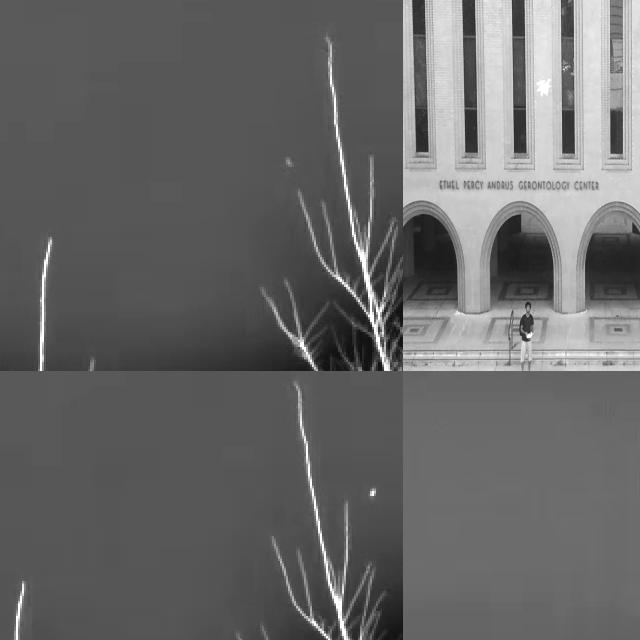0: (359, 481, 385, 511), (277, 150, 299, 176)
drone: (534, 72, 554, 100)
